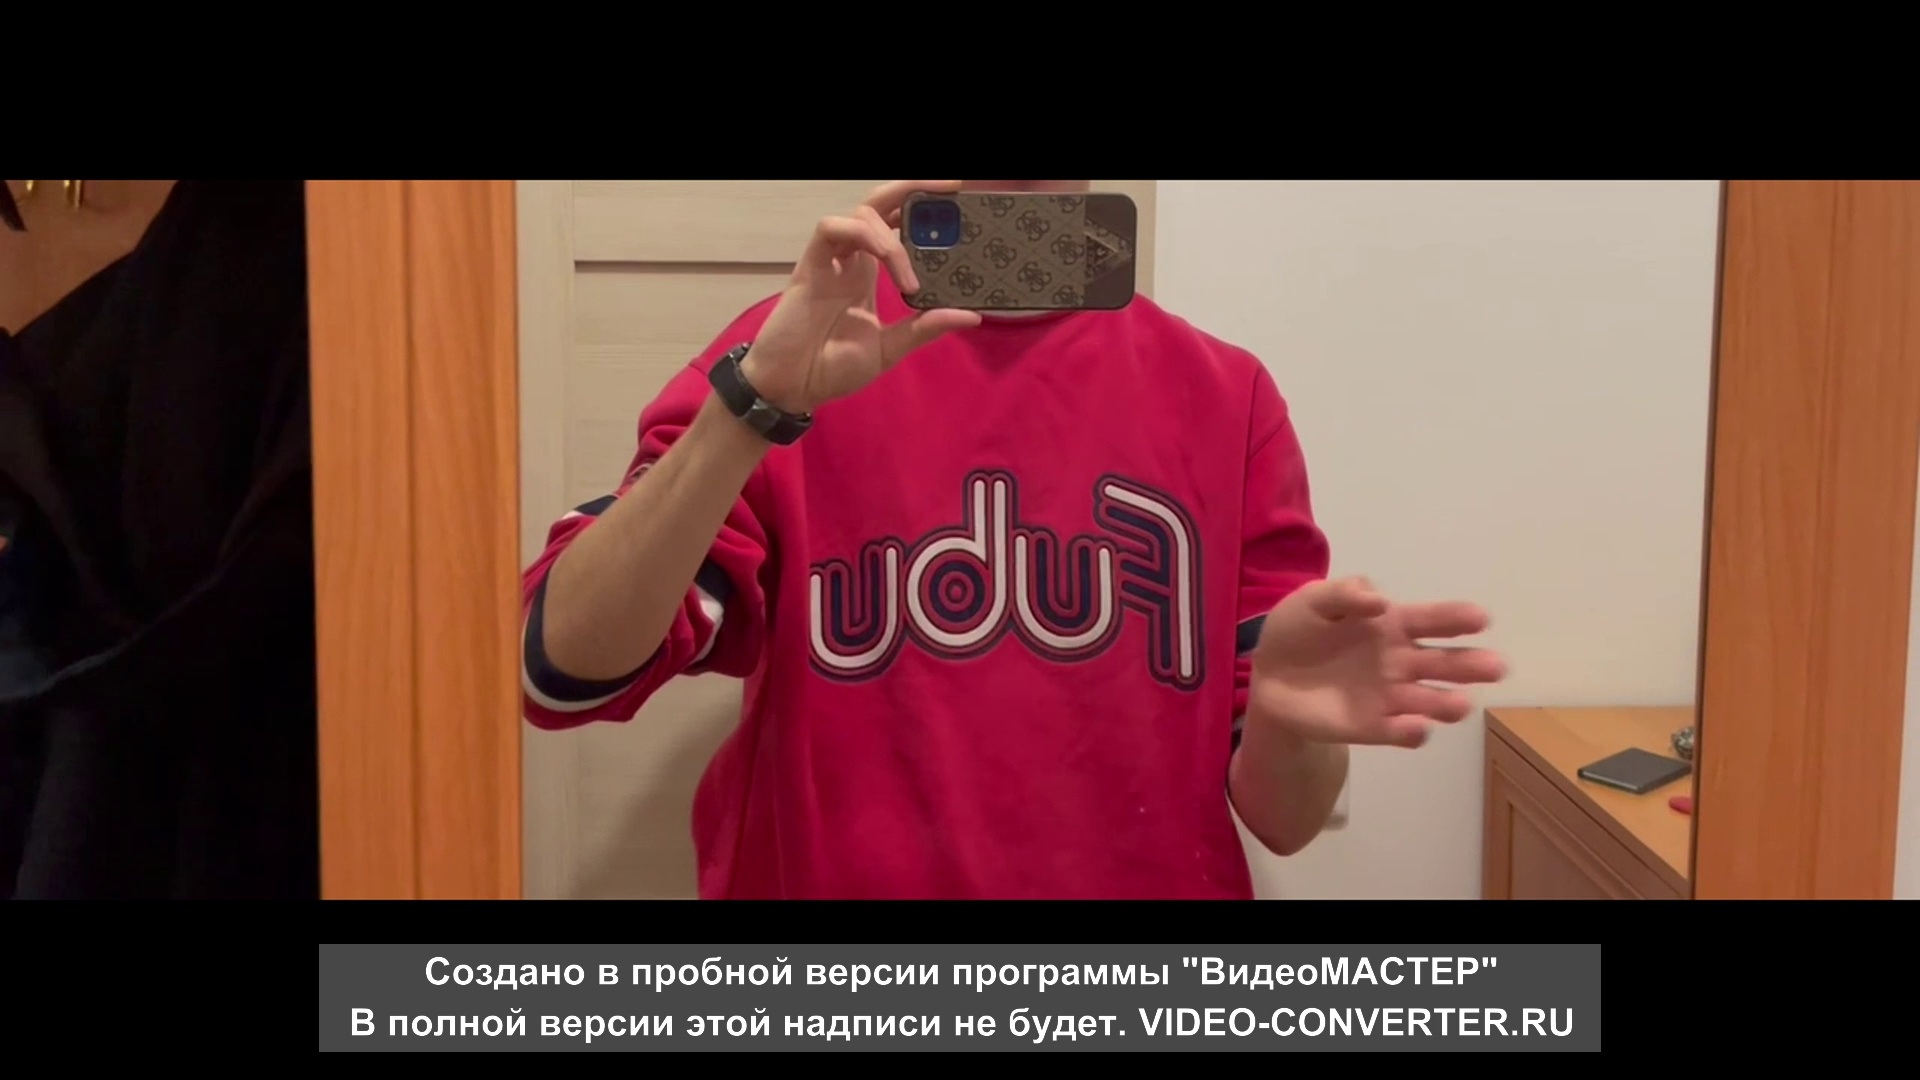Ладонь: (1254, 571, 1509, 750)
